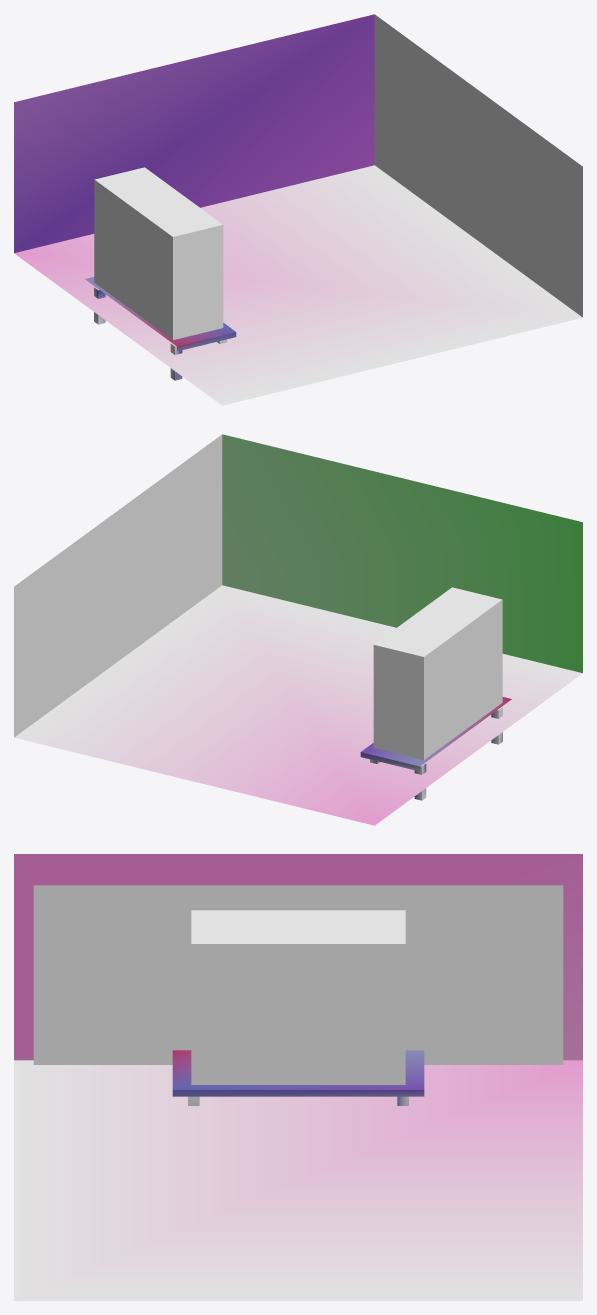
File: room_04.glb
3 views of the same model, one above another, from view 1: azimuth 30°, elevation 25°; view 2: azimuth 150°, elevation 25°; view 3: azimuth 270°, elevation 25° (orthographic). The views are drawn at different scales.
Visible parts, largest first — view 1: room, tank; view 2: room, tank; view 3: room, tank.
Boxes of the visible parts, <box> form: room: <box>14,14,582,405</box>; tank: <box>94,167,223,339</box>; room: <box>14,434,582,825</box>; tank: <box>373,587,502,759</box>; room: <box>14,854,582,1300</box>; tank: <box>191,910,405,1084</box>.
Bounding box in the file's own units: 1 × 0.468 × 1.
